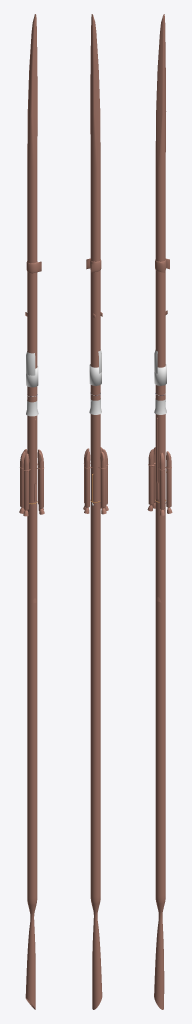
Rendered from rocket_2_3d.glb.
3 renders of one model, left to right at view 1: azimuth 30°, elevation 25°; view 2: azimuth 210°, elevation 25°; view 3: azimuth 330°, elevation 25°, orthographic.
Visible parts, largest first — view 1: Cylinder, Cylinder.019, Cylinder.016, Cylinder.018, Cylinder.014, Cylinder.022, Circle; view 2: Cylinder, Cylinder.017, Cylinder.001, Cylinder.022, Circle, Cylinder.018; view 3: Cylinder, Cylinder.001, Cylinder.016, Cylinder.019, Cylinder.022, Circle, Cube.006, Cylinder.018.
Part boxes in pixels (x1,y1,x2,y2): Cylinder: (25,14,41,1009); Cylinder.019: (23,453,31,516); Cylinder.016: (36,452,44,514); Cylinder.018: (19,451,25,513); Cylinder.014: (26,351,35,375); Cylinder.022: (26,366,38,387); Circle: (26,400,38,416); Cylinder: (86,14,102,1009); Cylinder.017: (98,451,106,514); Cylinder.001: (84,451,92,513); Cylinder.022: (89,364,101,385); Circle: (89,398,101,414); Cylinder.018: (102,449,108,511); Cylinder: (154,14,169,1009); Cylinder.001: (165,451,172,513); Cylinder.016: (158,452,165,515); Cylinder.019: (147,449,155,511); Cylinder.022: (154,364,166,385); Circle: (154,398,166,414); Cube.006: (155,417,158,499); Cylinder.018: (152,447,155,508).
Size of the model in its own units: 7.61 by 328 by 6.87.
7 materials, 2 textured.
